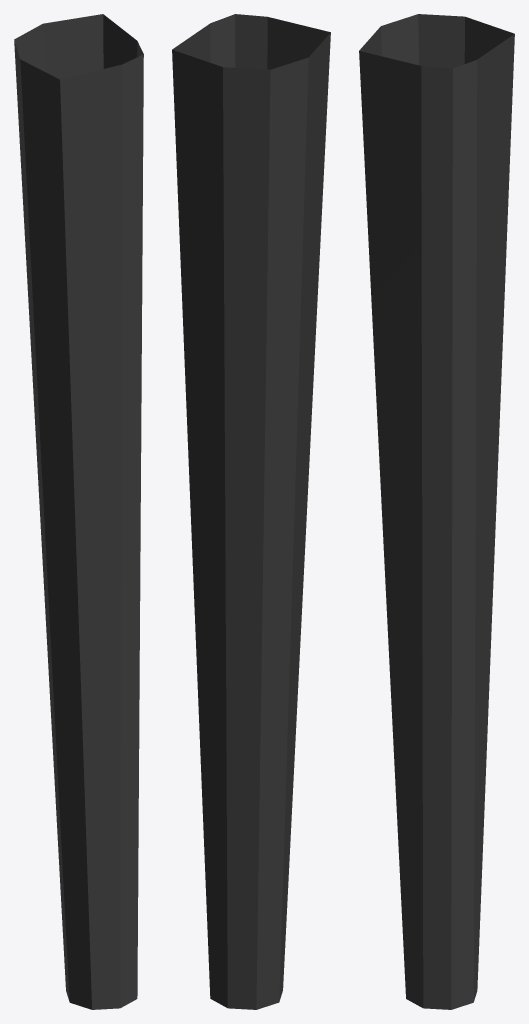
File: Table_Parts.fbx
3 renders of one model, left to right at view 1: azimuth 30°, elevation 25°; view 2: azimuth 150°, elevation 25°; view 3: azimuth 330°, elevation 25°, orthographic.
Visible parts, largest first — view 1: table01_1.001; view 2: table01_1.001; view 3: table01_1.001.
Part boxes in pixels (<box>): table01_1.001: <box>14,14,143,1009</box>; table01_1.001: <box>172,14,330,1009</box>; table01_1.001: <box>359,14,514,1009</box>.
Size of the model in its own units: 7.93 by 66 by 7.8.
